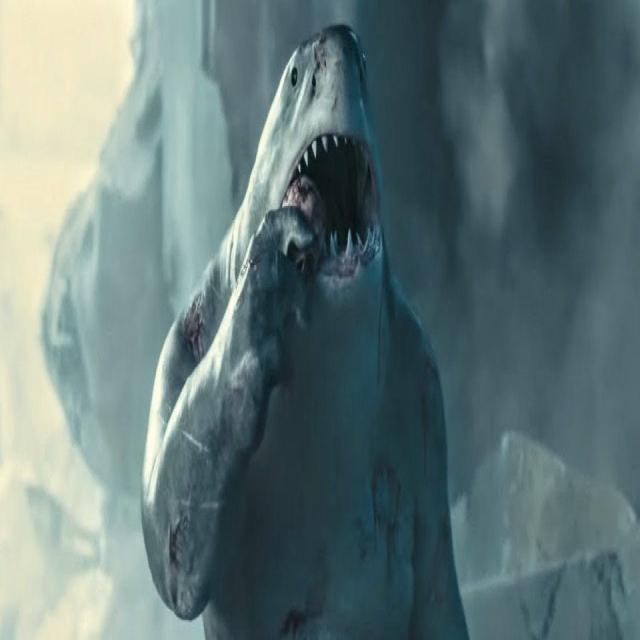shark: (141, 25, 467, 638)
